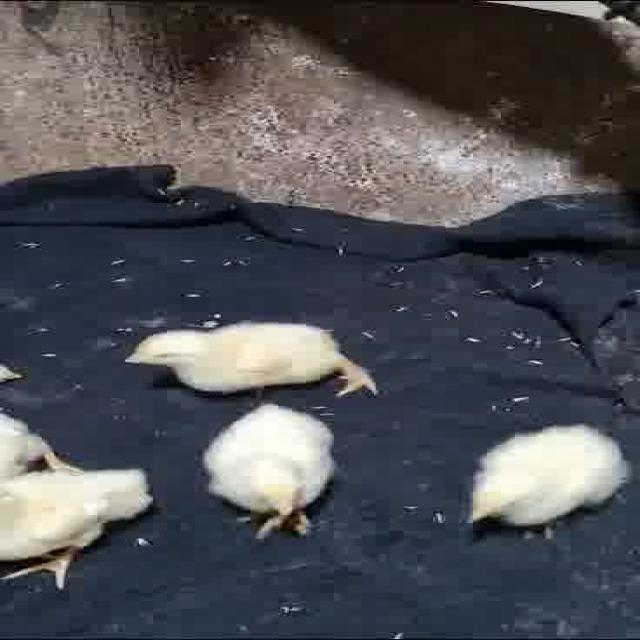poussin: (0, 408, 159, 594), (456, 409, 635, 530), (197, 400, 335, 546), (117, 321, 375, 394)
